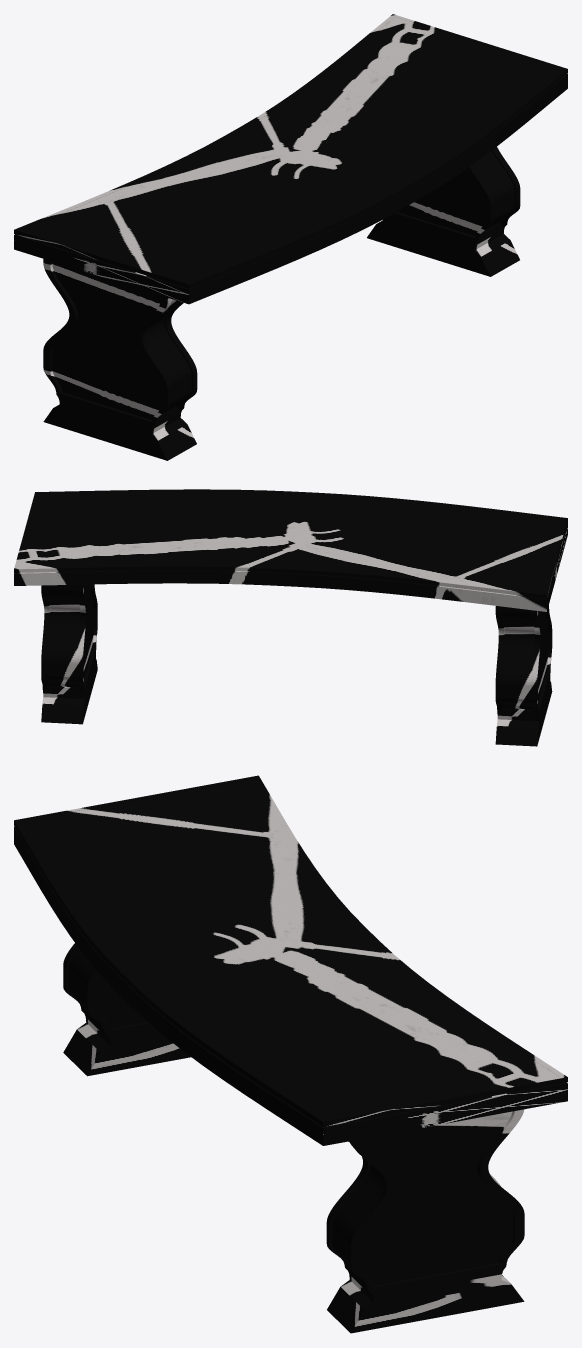
Rendered from stone_bench.fbx.
The picture shows the model from 3 angles, top to bottom: view 1: azimuth 30°, elevation 25°; view 2: azimuth 150°, elevation 25°; view 3: azimuth 270°, elevation 25°; orthographic projection. The views are drawn at different scales.
Parts seen in each view (by area): view 1: stone bench; view 2: stone bench; view 3: stone bench.
Part boxes in pixels (left/top/right/bottom): stone bench: left=14, top=14, right=567, bottom=460; stone bench: left=14, top=489, right=567, bottom=746; stone bench: left=14, top=775, right=567, bottom=1333.
Bounding box in the file's own units: 8265 × 2595 × 5585.
Materials: 1 (1 with a texture image).
